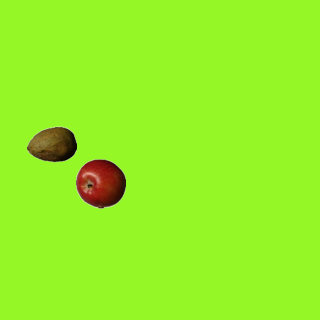Apple Braeburn: (75, 158, 125, 208)
Papaya: (26, 119, 76, 169)
